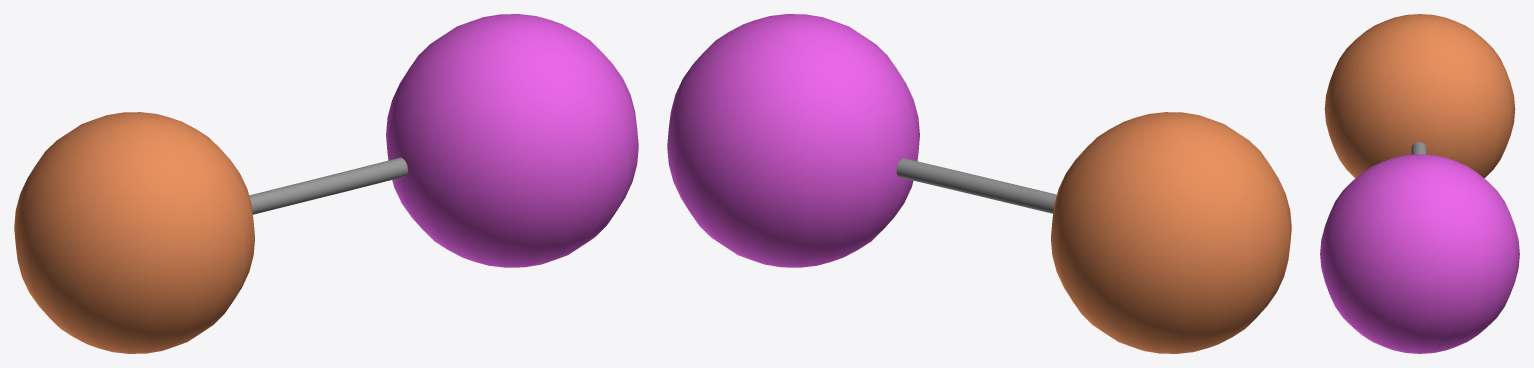
Rendered from LiBr.fbx.
The picture shows the model from 3 angles, left to right: view 1: azimuth 30°, elevation 25°; view 2: azimuth 150°, elevation 25°; view 3: azimuth 270°, elevation 25°; orthographic projection. The views are drawn at different scales.
Visible parts, largest first — view 1: LiBr; view 2: LiBr; view 3: LiBr.
Boxes of the visible parts, x1,y1,x2,y2 form: LiBr: (14,14,638,353); LiBr: (667,14,1291,353); LiBr: (1320,14,1519,353).
Bounding box in the file's own units: 6.19 × 2.3 × 2.3.
